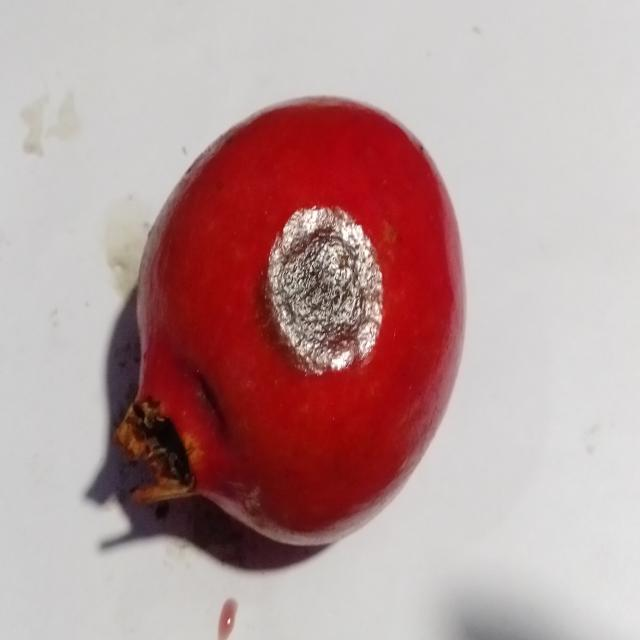Rotten: (116, 86, 471, 555)
